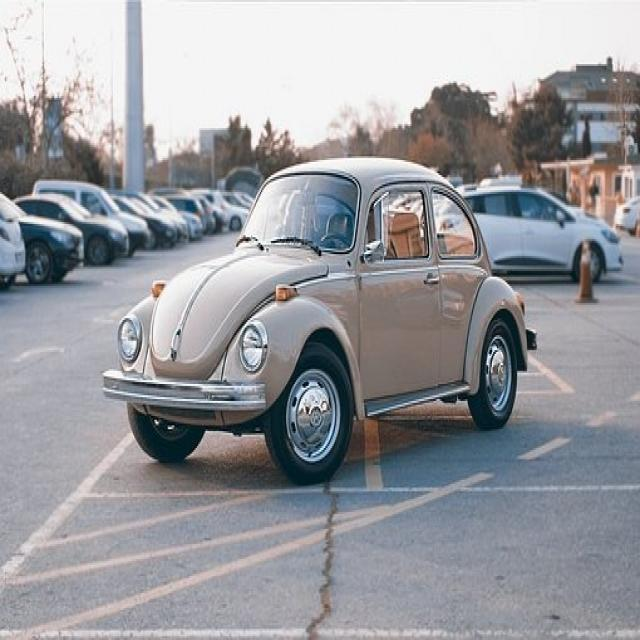0: (115, 154, 538, 464)
cars: (457, 167, 617, 289), (15, 194, 130, 266), (0, 210, 88, 284)
